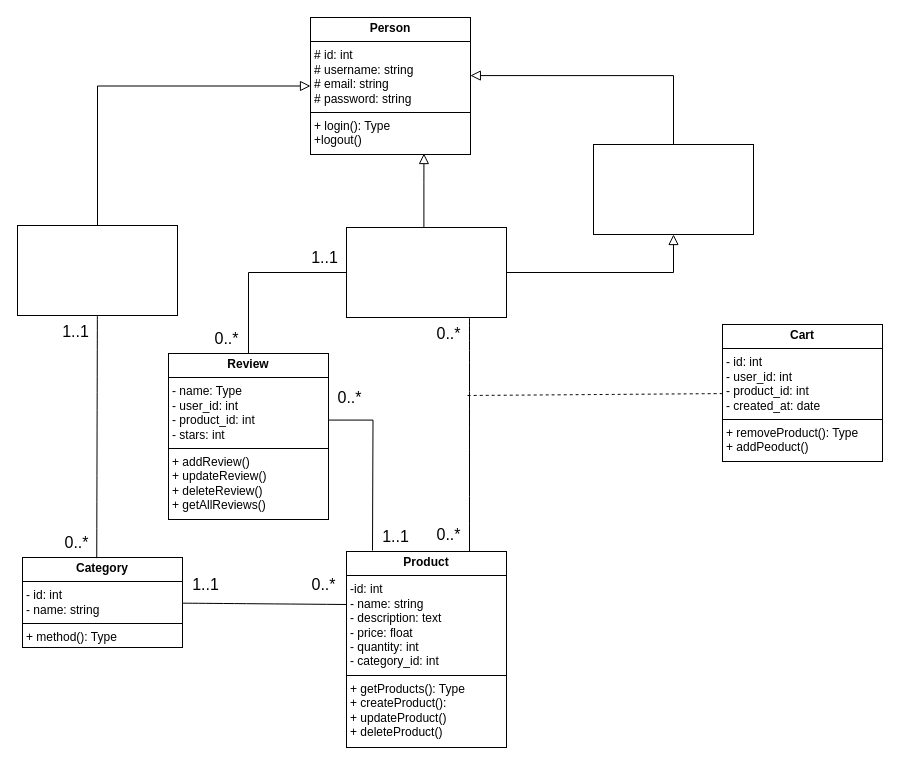
The diagram is 900 pixels wide and 765 high, and some of its shapes have lost their labels. The shapes that lost their labels are listed below. From the top down, each one's centre as x and y in pixels, then its label:
(673,189): RegisterUser + register(): Type
(97,270): Admin + field: Type + method(): Type
(426,272): User + field: Type + method(): Type
